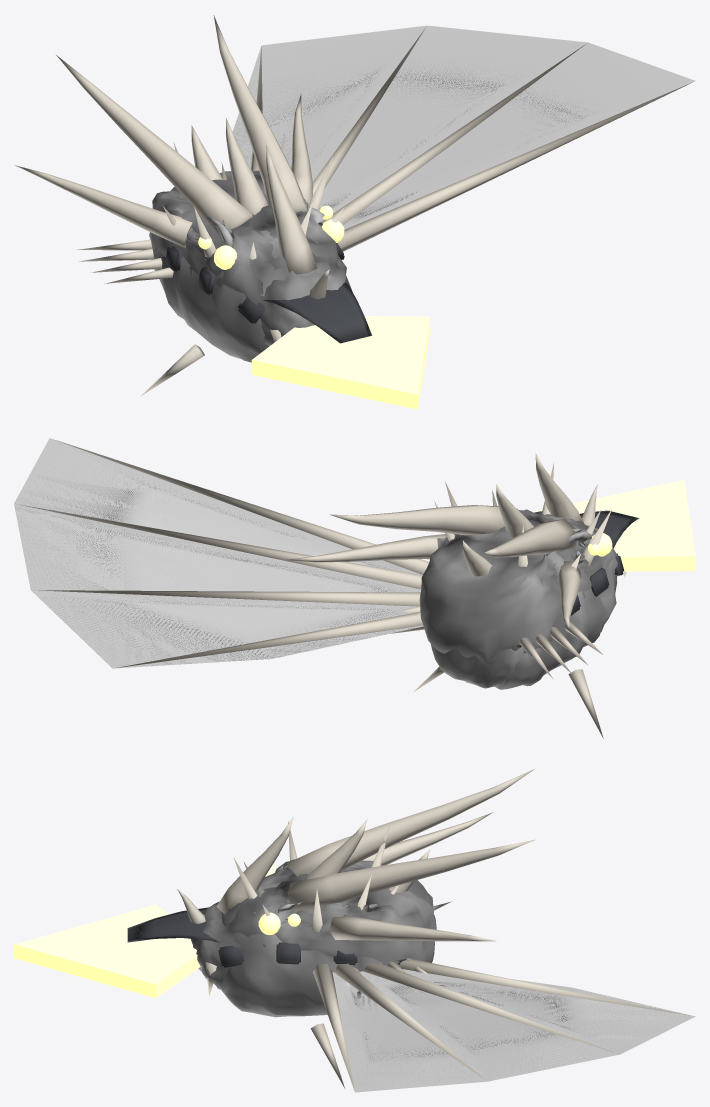
The model's file is skywyrm.glb.
The picture shows the model from 3 angles, top to bottom: view 1: azimuth 30°, elevation 25°; view 2: azimuth 150°, elevation 25°; view 3: azimuth 270°, elevation 25°; orthographic projection. The views are drawn at different scales.
Parts seen in each view (by area): view 1: skywyrm_wing, skywyrm_head, skywyrm_seg, skywyrm_tail, skywyrm_petal, skywyrm_node; view 2: skywyrm_wing, skywyrm_head, skywyrm_tail, skywyrm_seg, skywyrm_node, skywyrm_petal; view 3: skywyrm_wing, skywyrm_head, skywyrm_seg, skywyrm_tail, skywyrm_petal, skywyrm_node.
Part boxes in pixels (bbox=[...]): skywyrm_wing: bbox=[232, 25, 695, 251]; skywyrm_head: bbox=[15, 15, 346, 345]; skywyrm_seg: bbox=[140, 118, 352, 396]; skywyrm_tail: bbox=[251, 316, 429, 409]; skywyrm_petal: bbox=[263, 282, 371, 343]; skywyrm_node: bbox=[162, 132, 343, 260]; skywyrm_wing: bbox=[14, 438, 428, 668]; skywyrm_head: bbox=[286, 484, 617, 679]; skywyrm_tail: bbox=[431, 480, 695, 688]; skywyrm_seg: bbox=[413, 453, 624, 738]; skywyrm_node: bbox=[434, 463, 611, 570]; skywyrm_petal: bbox=[579, 510, 639, 577]; skywyrm_wing: bbox=[313, 959, 695, 1092]; skywyrm_head: bbox=[177, 769, 536, 989]; skywyrm_seg: bbox=[216, 817, 430, 1088]; skywyrm_tail: bbox=[14, 904, 200, 997]; skywyrm_petal: bbox=[127, 907, 219, 996]; skywyrm_node: bbox=[233, 821, 398, 932].
Size of the model in its own units: 3.4 by 1.41 by 3.6.
